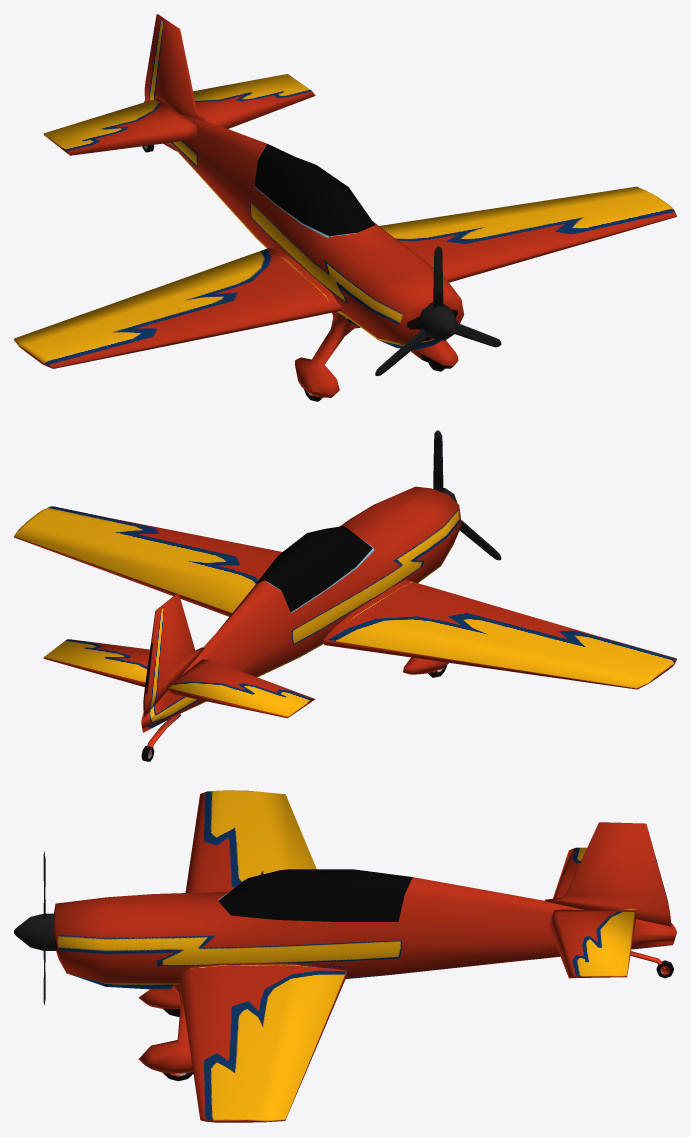
The model's file is stuntPlane.fbx.
3 views of the same model, one above another, from view 1: azimuth 30°, elevation 25°; view 2: azimuth 150°, elevation 25°; view 3: azimuth 270°, elevation 25° (orthographic). The views are drawn at different scales.
Parts seen in each view (by area): view 1: stuntPlaneBody, stuntPlaneProp; view 2: stuntPlaneBody, stuntPlaneProp; view 3: stuntPlaneBody, stuntPlaneProp.
Boxes of the visible parts, x1,y1,x2,y2 form: stuntPlaneBody: [14, 14, 676, 401]; stuntPlaneProp: [375, 246, 501, 376]; stuntPlaneBody: [14, 486, 676, 761]; stuntPlaneProp: [433, 430, 501, 560]; stuntPlaneBody: [53, 790, 676, 1122]; stuntPlaneProp: [14, 851, 55, 1005].
Bounding box in the file's own units: 378 × 122 × 322.
3 materials, 1 textured.
